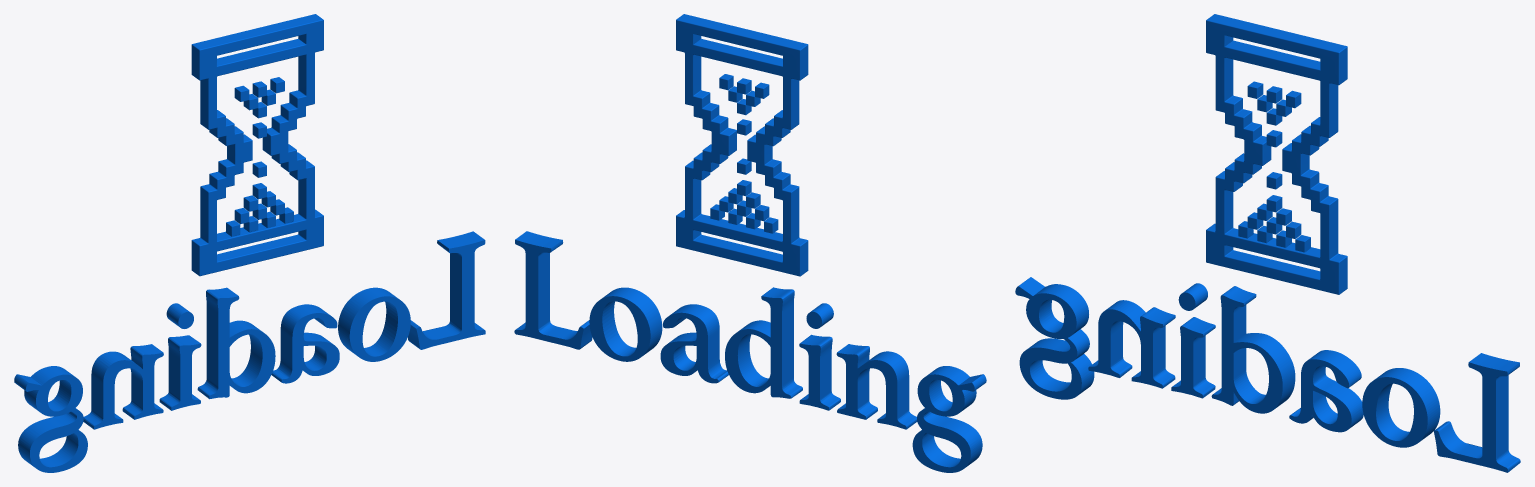
File: loading.gltf
3 renders of one model, left to right at view 1: azimuth 30°, elevation 25°; view 2: azimuth 150°, elevation 25°; view 3: azimuth 330°, elevation 25°, orthographic. The views are drawn at different scales.
Parts seen in each view (by area): view 1: Curve, polySurface45_lambert1_0, polySurface46; view 2: Curve, polySurface45_lambert1_0, polySurface46; view 3: Curve, polySurface45_lambert1_0, polySurface46.
Part boxes in pixels (x1,y1,x2,y2): Curve: (14,231,485,472); polySurface45_lambert1_0: (191,14,323,276); polySurface46: (226,77,293,236); Curve: (514,231,986,472); polySurface45_lambert1_0: (676,14,808,276); polySurface46: (710,74,778,233); Curve: (1015,277,1520,472); polySurface45_lambert1_0: (1206,14,1347,294); polySurface46: (1238,81,1310,252).
Size of the model in its own units: 12.36 by 9.91 by 0.5466.
